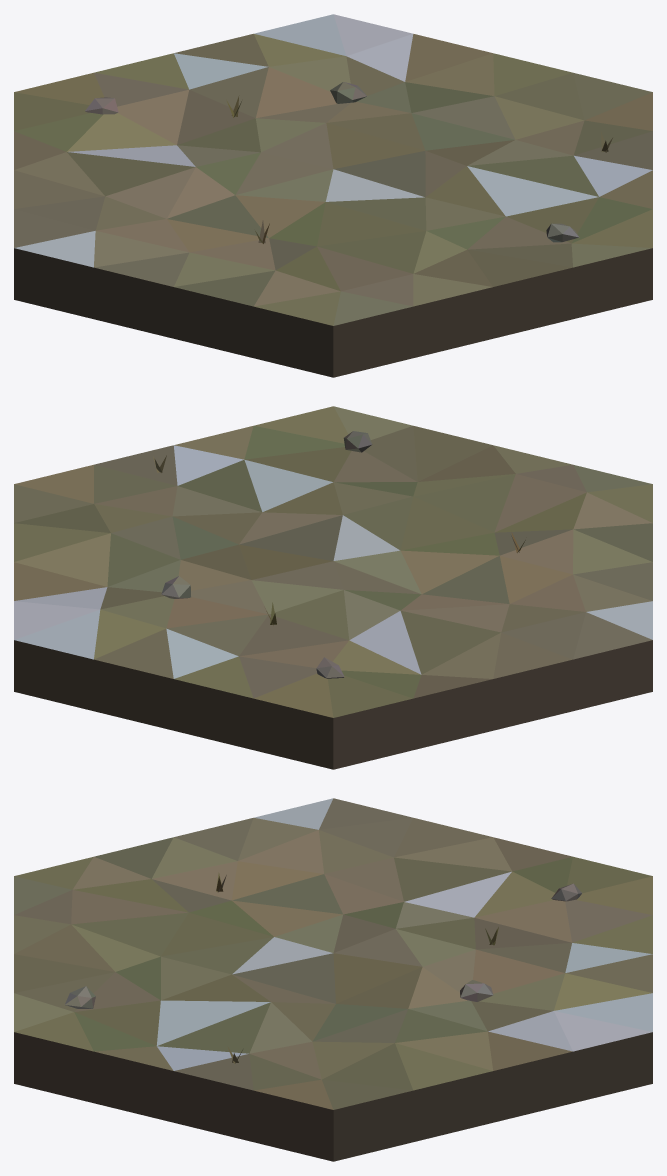
File: Tundra.glb
3 renders of one model, top to bottom at view 1: azimuth 30°, elevation 25°; view 2: azimuth 150°, elevation 25°; view 3: azimuth 270°, elevation 25°, orthographic.
Parts seen in each view (by area): view 1: Tundra; view 2: Tundra; view 3: Tundra.
Part boxes in pixels (x1,y1,x2,y2): Tundra: [14, 14, 652, 377]; Tundra: [14, 406, 652, 769]; Tundra: [14, 798, 652, 1161].
Bounding box in the file's own units: 1.94 × 0.208 × 1.68.
